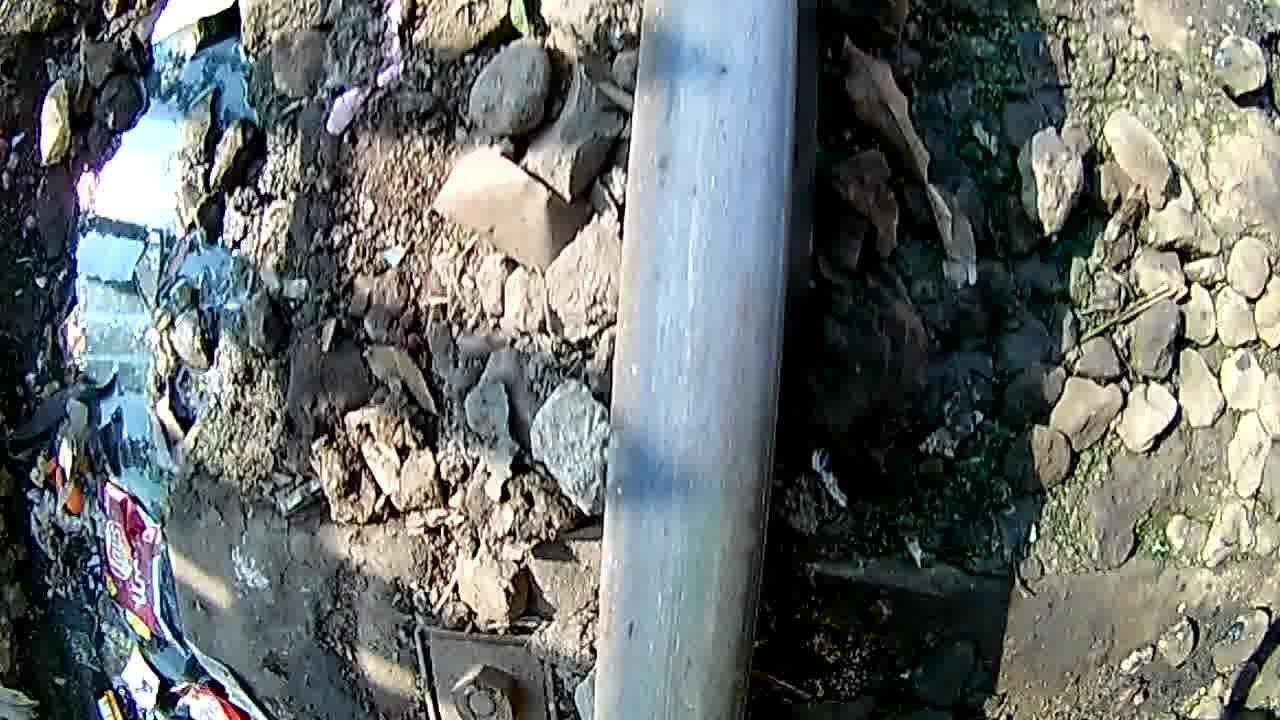crack: (597, 2, 799, 720)
